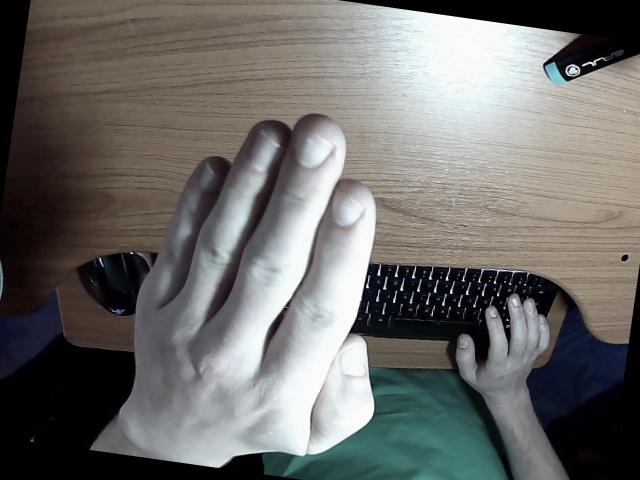paper: (96, 116, 376, 467)
